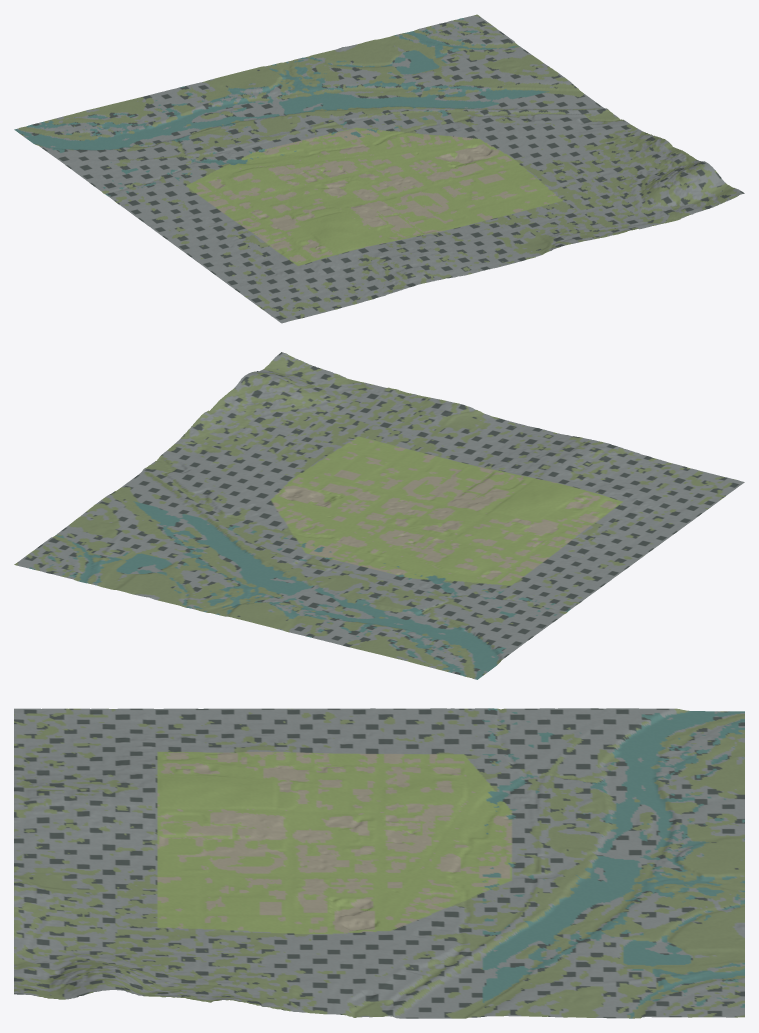
Rendered from landcover.glb.
3 renders of one model, top to bottom at view 1: azimuth 30°, elevation 25°; view 2: azimuth 150°, elevation 25°; view 3: azimuth 270°, elevation 25°, orthographic. The views are drawn at different scales.
Visible parts, largest first — view 1: Ground cover foundation; view 2: Ground cover foundation; view 3: Ground cover foundation.
Boxes of the visible parts, box(x1,y1,x2,y2) form: Ground cover foundation: box(14, 14, 744, 323); Ground cover foundation: box(14, 352, 744, 679); Ground cover foundation: box(14, 708, 744, 1018).
Size of the model in its own units: 2000 by 91.41 by 2000.
